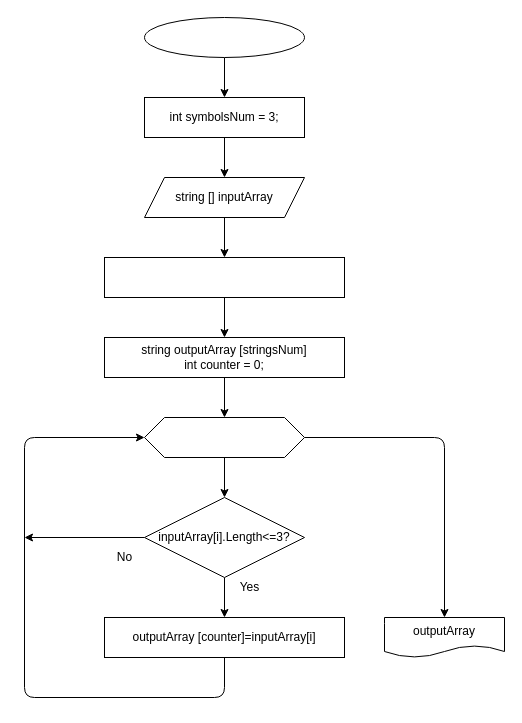
Image size: 522x723. Some labels were removed from this diagram. The centre of each missing label's shape, as x and y in pixels:
FilterStringArray: point 224,37
i=0; i<inputArray.Length; i++: point 224,437
int stringsNum = CountStringsLessNum (symbolsNum): point 224,277
